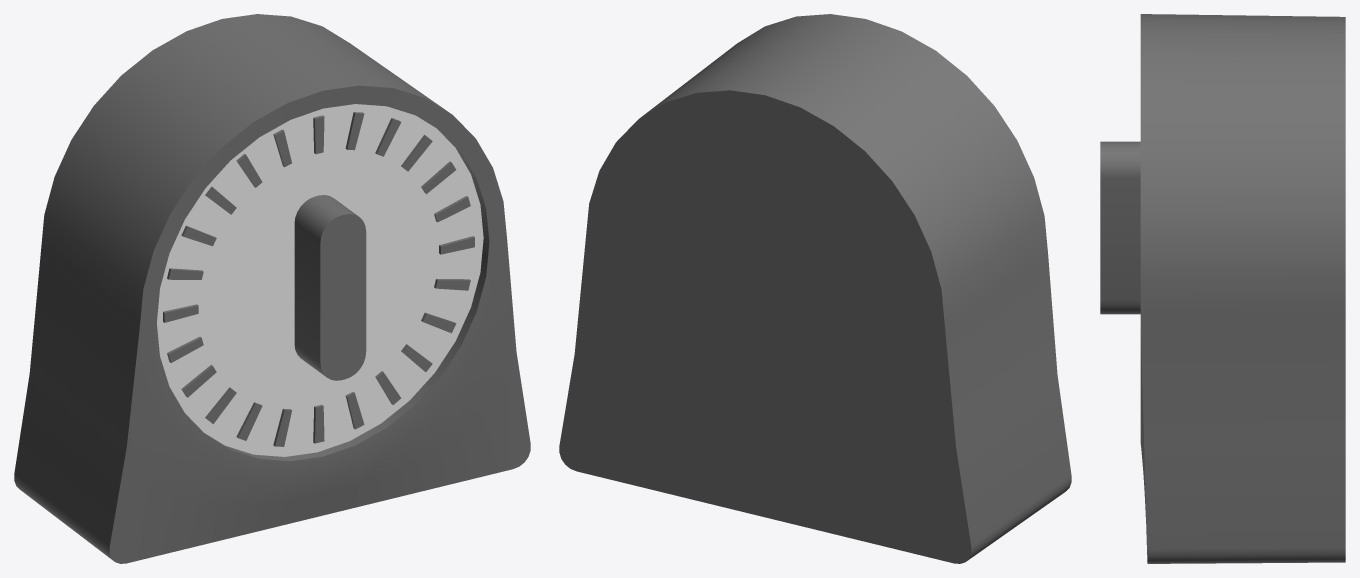
Rendered from timer_clock.gltf.
3 views of the same model, side by side, from view 1: azimuth 30°, elevation 25°; view 2: azimuth 150°, elevation 25°; view 3: azimuth 270°, elevation 25° (orthographic).
Visible parts, largest first — view 1: Circle.2423; view 2: Circle.2423; view 3: Circle.2423.
Part boxes in pixels (x1,y1,x2,y2): Circle.2423: (14, 14, 530, 563); Circle.2423: (559, 14, 1071, 563); Circle.2423: (1100, 14, 1345, 563).
Size of the model in its own units: 2.35 by 2.29 by 1.17.
1 material, 1 textured.
